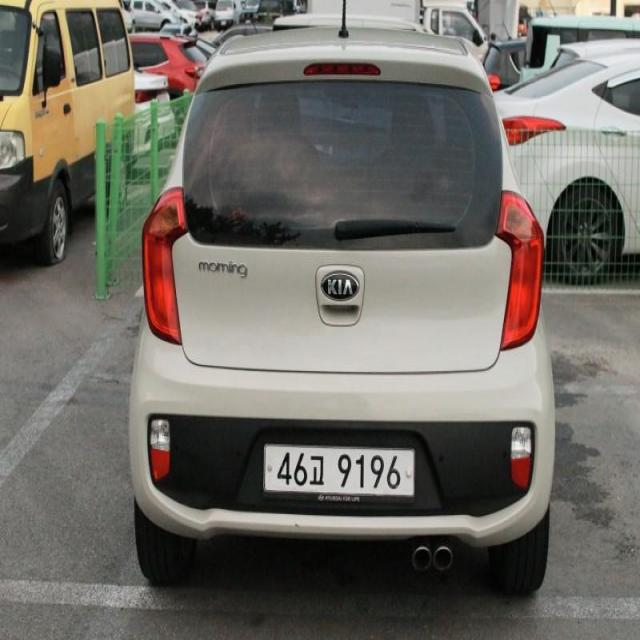car: (127, 3, 566, 612)
illegal_plate: (259, 442, 420, 508)
